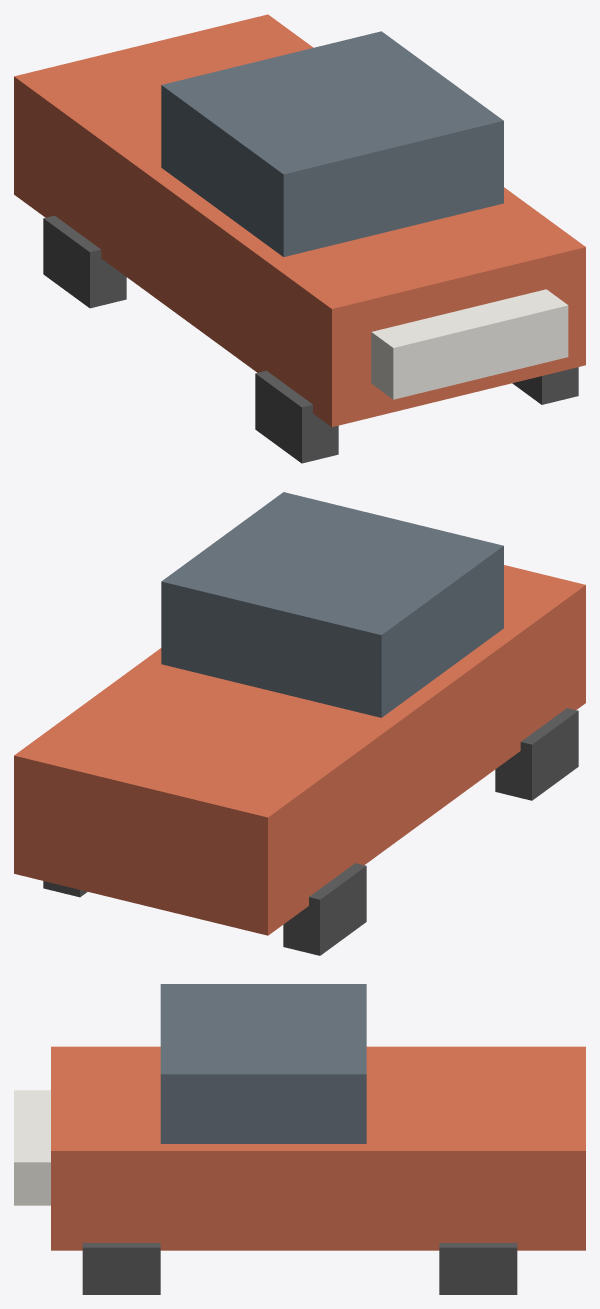
Rendered from car.glb.
The picture shows the model from 3 angles, top to bottom: view 1: azimuth 30°, elevation 25°; view 2: azimuth 150°, elevation 25°; view 3: azimuth 270°, elevation 25°; orthographic projection. The views are drawn at different scales.
Bounding box in the file's own units: 1.96 × 1.68 × 4.17.
